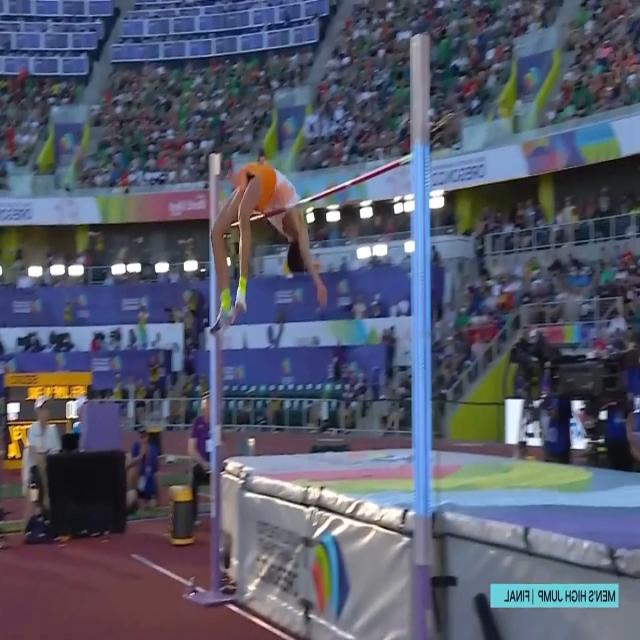jump: (207, 151, 329, 337)
